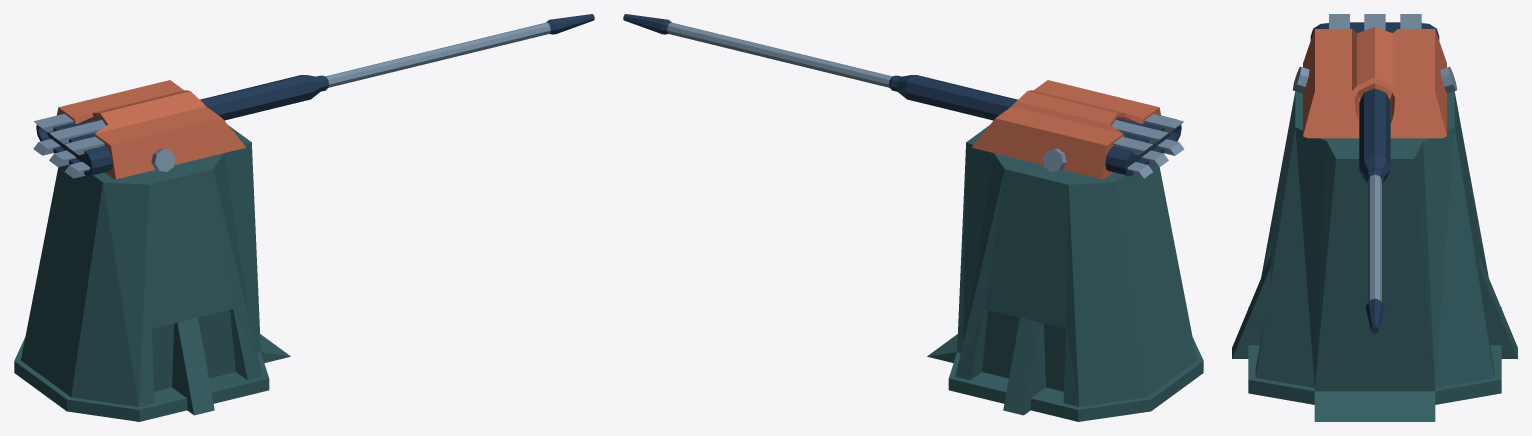
The model's file is Cannon-RRRR-1.fbx.
3 renders of one model, left to right at view 1: azimuth 30°, elevation 25°; view 2: azimuth 150°, elevation 25°; view 3: azimuth 270°, elevation 25°, orthographic. The views are drawn at different scales.
Parts seen in each view (by area): view 1: russian4:base, russian4:attack; view 2: russian4:base, russian4:attack; view 3: russian4:base, russian4:attack.
Boxes of the visible parts, left/top/right/bottom form: russian4:base: left=14, top=125, right=290, bottom=421; russian4:attack: left=33, top=14, right=594, bottom=179; russian4:base: left=927, top=125, right=1203, bottom=421; russian4:attack: left=623, top=14, right=1184, bottom=179; russian4:base: left=1232, top=91, right=1517, bottom=421; russian4:attack: left=1292, top=14, right=1457, bottom=333.
Bounding box in the file's own units: 2909 × 1330 × 1137.
